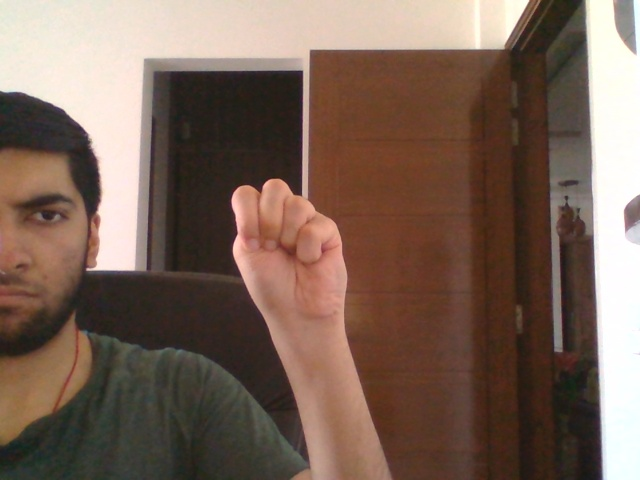LetterM: (230, 178, 348, 325)
